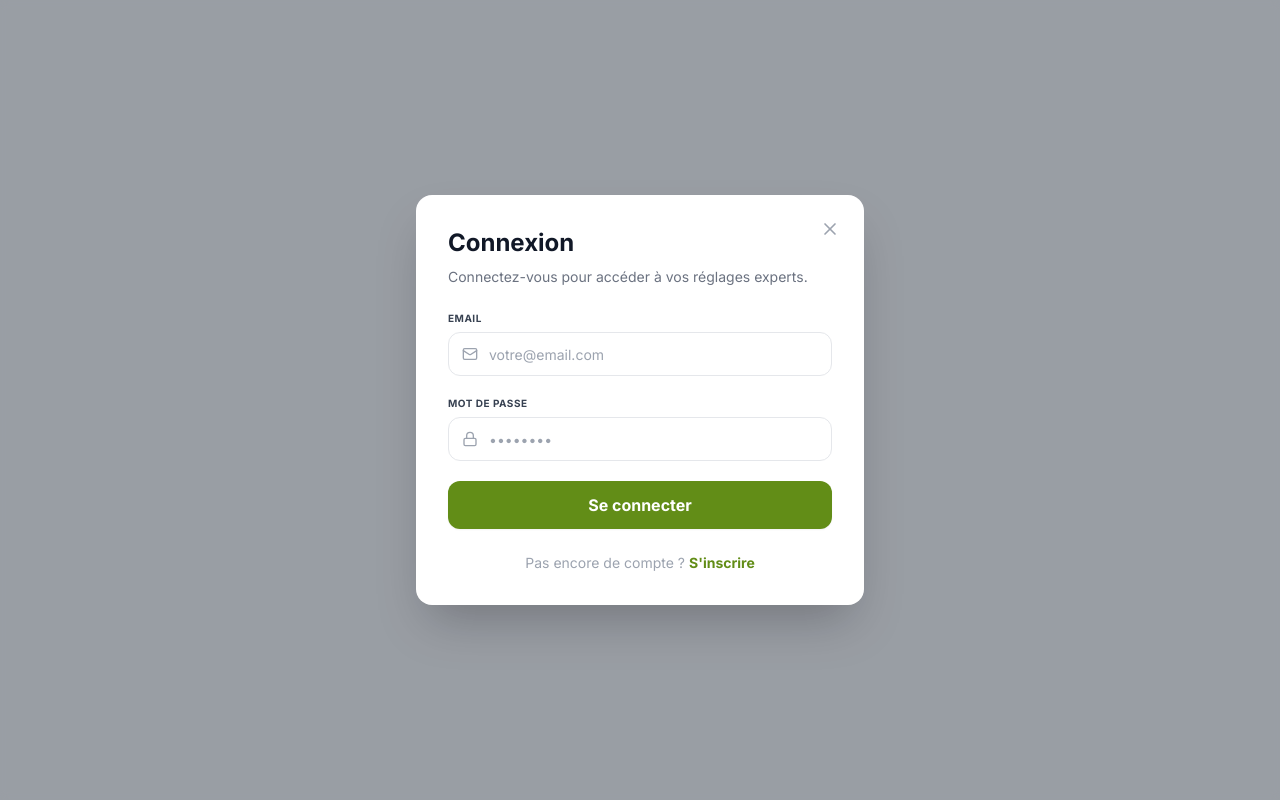
Scenario: AuthModal Component › shows pending message if registration requires admin approval
This screenshot has width=1280, height=800.
Click the button "S'inscrire": click(722, 563) [689, 553, 755, 573]
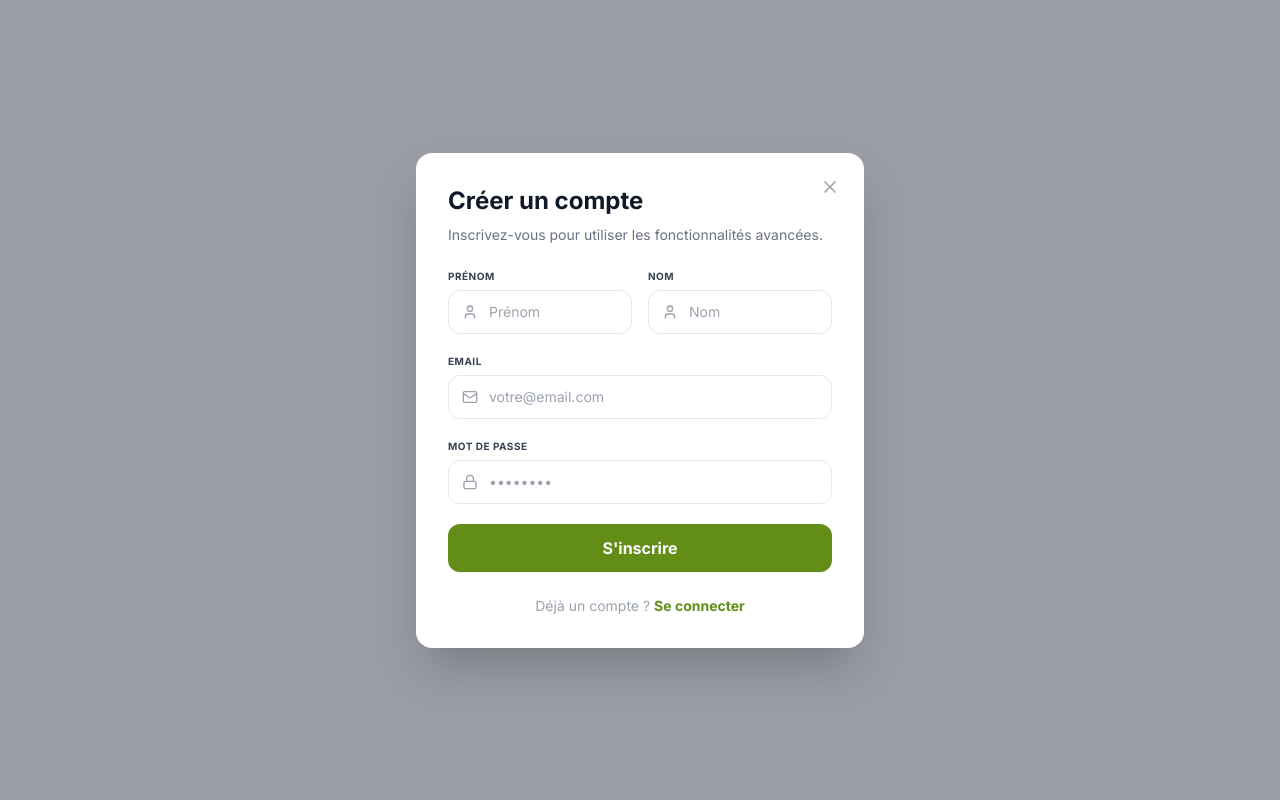
In the field with placeholder "Prénom": (540, 312) [448, 290, 632, 334], type "Jean"
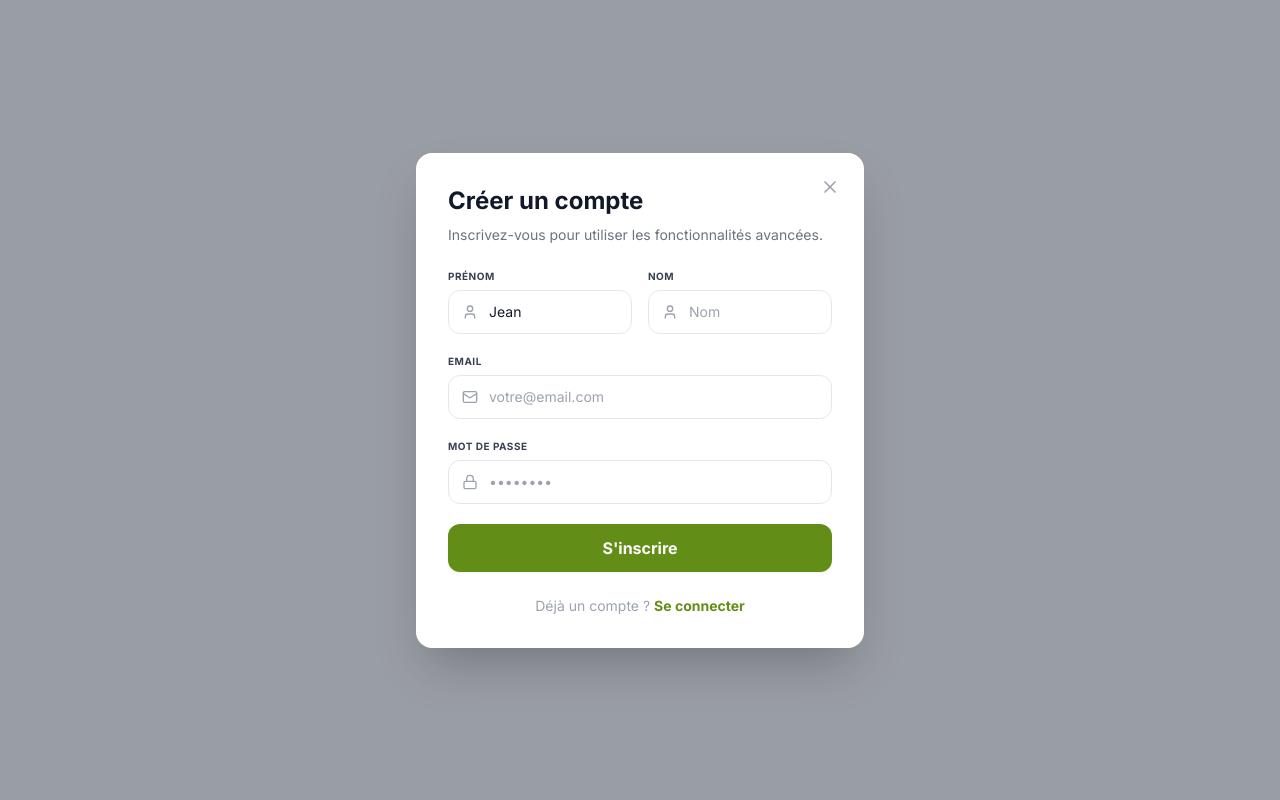
In the field with placeholder "Nom": (740, 312) [648, 290, 832, 334], type "Dupont"
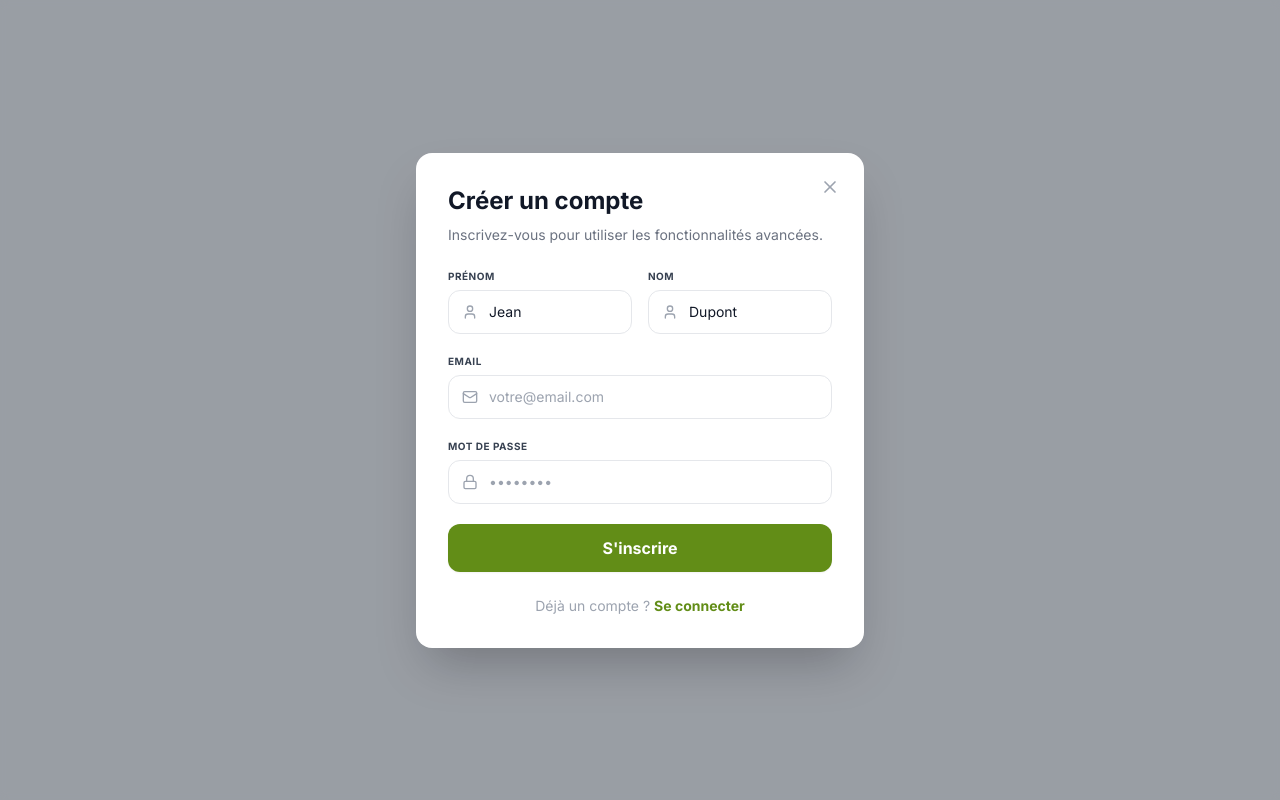
In the field with placeholder "votre@email.com": (640, 396) [448, 374, 832, 418], type "jean@ifpc.eu"
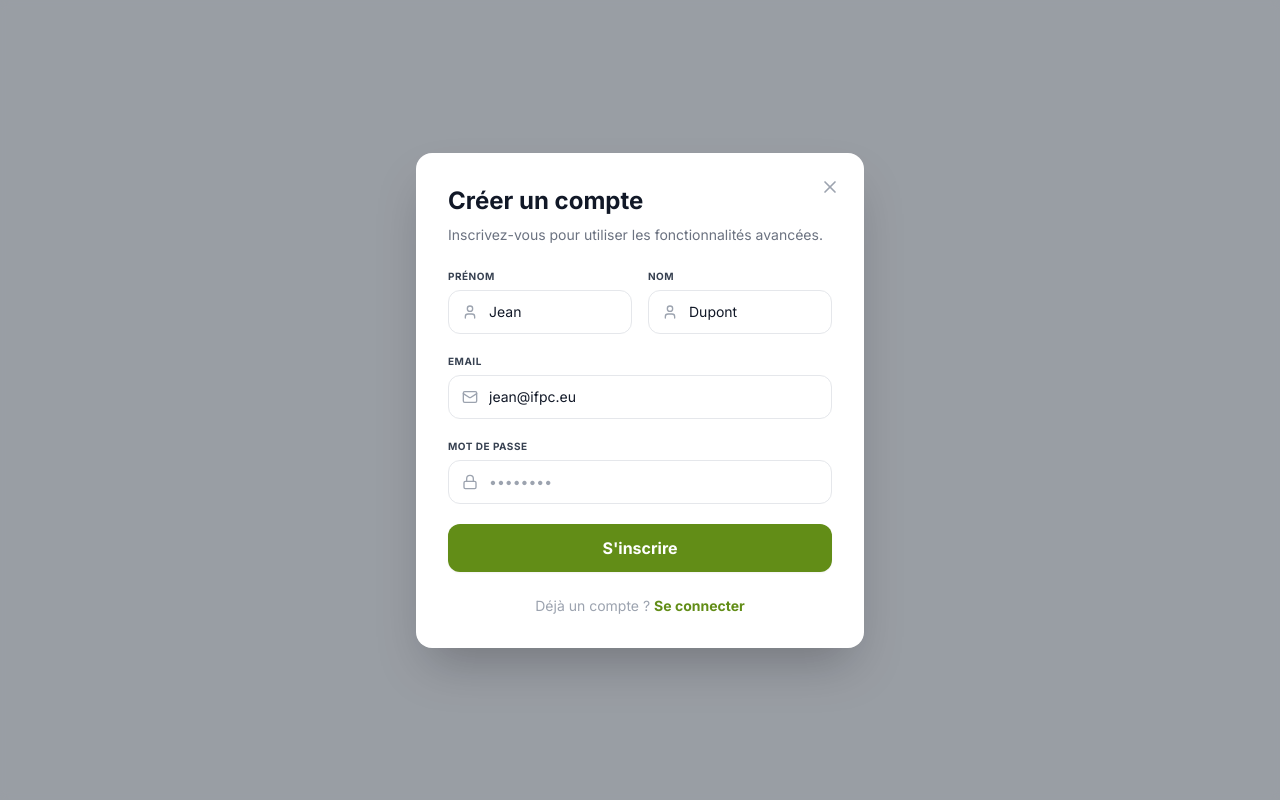
In the password field with placeholder "••••••••": (640, 482) [448, 460, 832, 504], type "secret123"
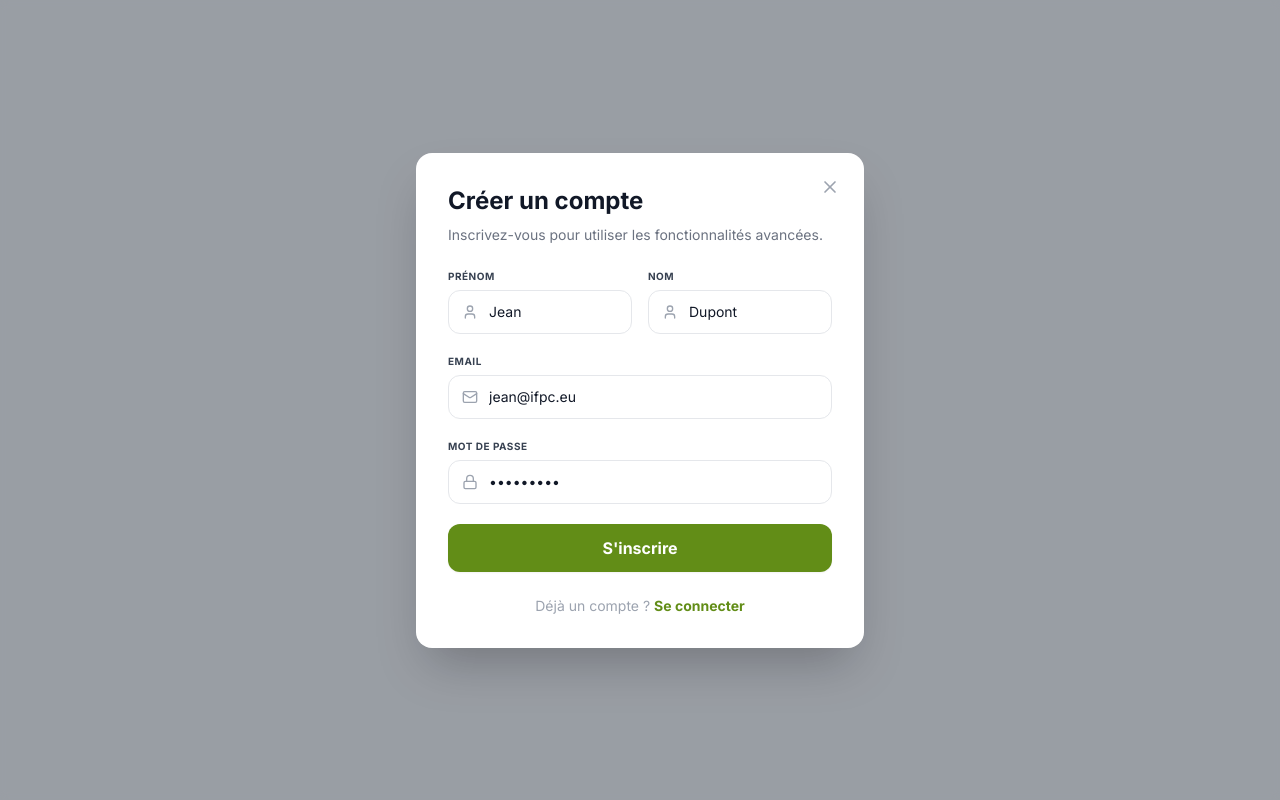
Click the button "S'inscrire": click(640, 548) [448, 524, 832, 572]
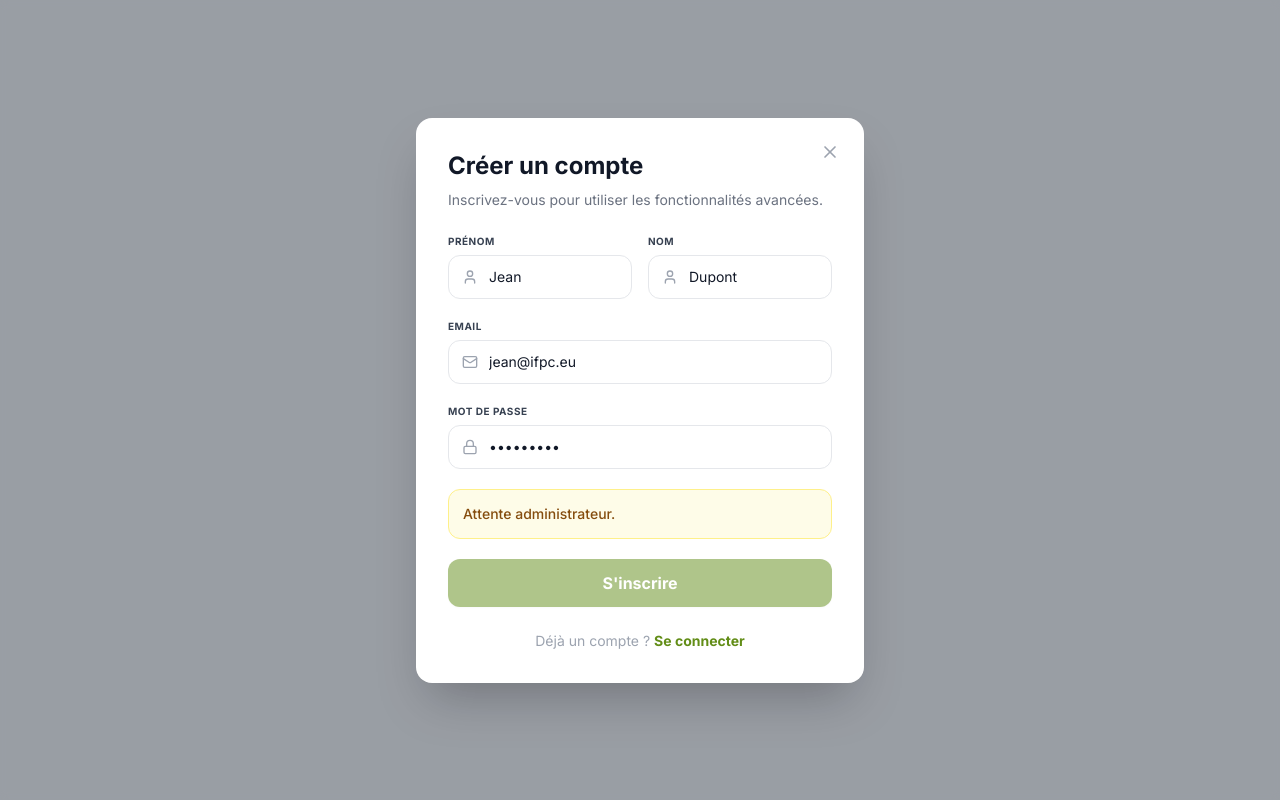
Check: the text "Attente administrateur." is shown, box [448, 488, 832, 538]
